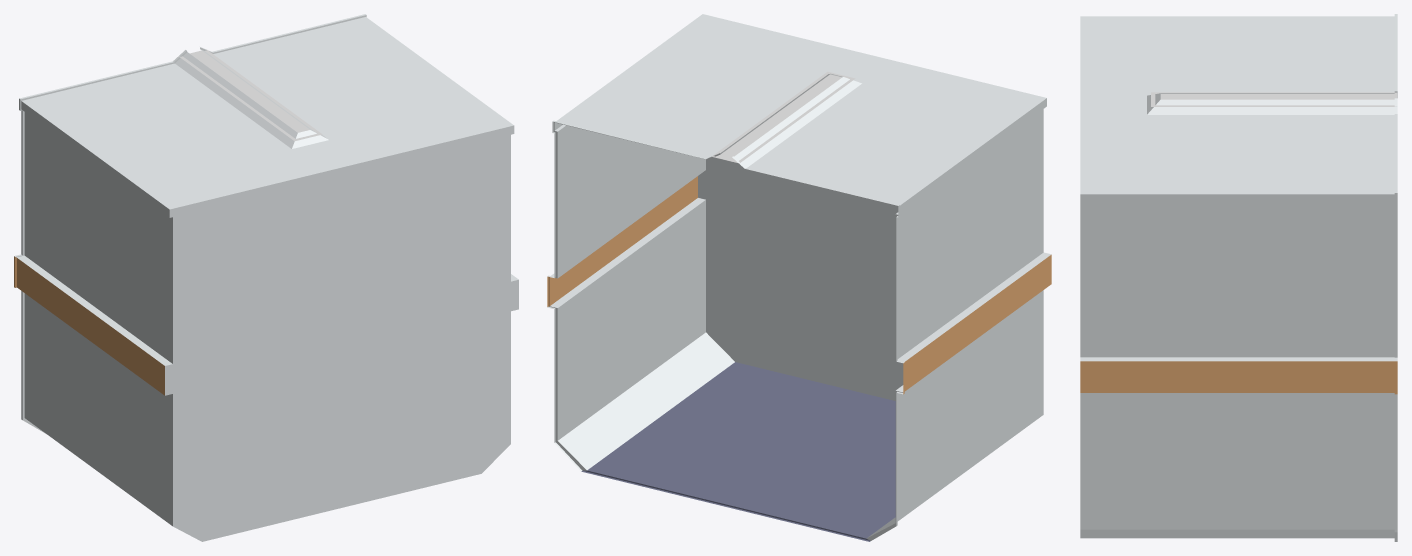
Rendered from DeadGang.fbx.
3 views of the same model, side by side, from view 1: azimuth 30°, elevation 25°; view 2: azimuth 150°, elevation 25°; view 3: azimuth 270°, elevation 25° (orthographic). The views are drawn at different scales.
Visible parts, largest first — view 1: DeadGang; view 2: DeadGang; view 3: DeadGang.
Part boxes in pixels (<box>): DeadGang: <box>14,14,518,541</box>; DeadGang: <box>547,14,1051,541</box>; DeadGang: <box>1080,14,1397,541</box>.
Bounding box in the file's own units: 2.22 × 2.09 × 1.61.
